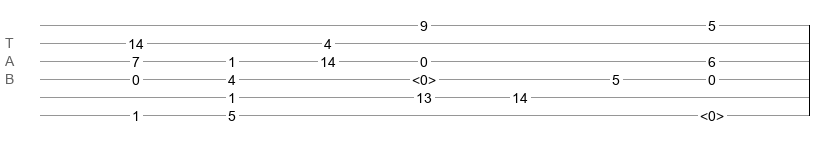0: (132, 72, 140, 82), (420, 54, 428, 64), (708, 72, 716, 82)
1: (132, 108, 140, 118), (228, 54, 236, 64), (228, 90, 236, 100)
13: (416, 90, 432, 100)
14: (128, 36, 144, 46), (320, 54, 336, 64), (512, 90, 528, 100)
4: (228, 72, 236, 82), (324, 36, 332, 46)
5: (228, 108, 236, 118), (612, 72, 620, 82), (708, 18, 716, 28)
6: (708, 54, 716, 64)
7: (132, 54, 140, 64)
9: (420, 18, 428, 28)
harmonic: (412, 72, 436, 82), (700, 108, 724, 118)
